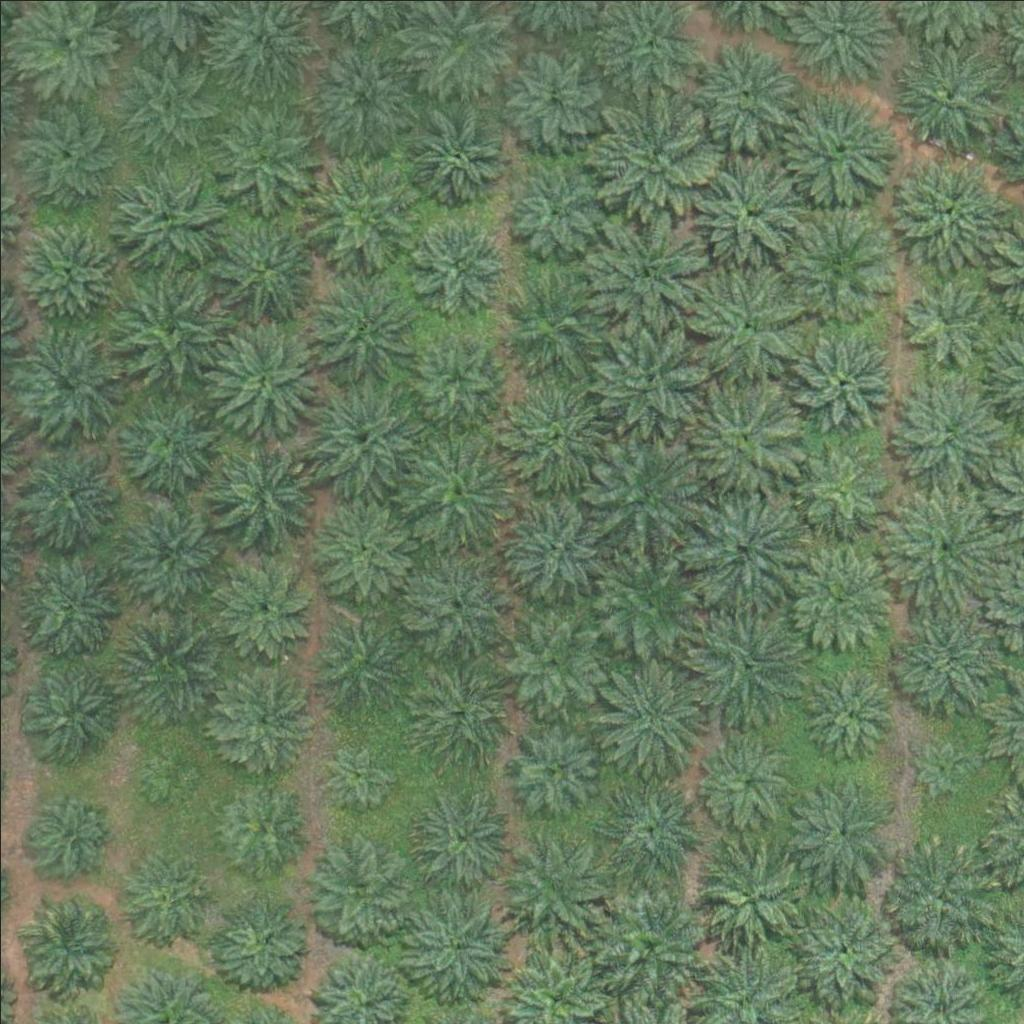Kelapa_Sawit: (595, 549, 708, 663), (689, 613, 802, 727), (783, 769, 896, 883), (588, 439, 701, 553), (303, 273, 416, 387), (205, 97, 318, 211), (112, 42, 225, 156), (13, 653, 126, 766), (397, 885, 510, 998), (694, 841, 807, 954), (689, 492, 802, 605), (785, 889, 898, 1002), (889, 154, 1002, 267), (779, 95, 892, 208), (688, 379, 801, 492), (593, 320, 706, 433), (591, 214, 704, 327), (597, 99, 710, 212), (399, 441, 512, 554), (302, 381, 415, 494), (208, 320, 321, 433), (206, 211, 319, 324), (892, 38, 1005, 151), (501, 488, 613, 602), (884, 834, 996, 948), (493, 380, 605, 494), (303, 148, 415, 262), (13, 545, 125, 658), (112, 616, 224, 729), (114, 494, 226, 607), (402, 544, 514, 657), (495, 828, 607, 941), (592, 888, 704, 1001), (596, 776, 708, 889), (594, 664, 706, 777), (783, 537, 895, 650), (889, 603, 1001, 716), (887, 490, 999, 603), (893, 372, 1005, 485), (781, 209, 893, 322), (687, 267, 799, 380), (689, 161, 801, 274), (496, 266, 608, 379), (307, 40, 419, 153), (206, 440, 318, 553), (116, 387, 228, 500), (117, 271, 229, 384), (109, 157, 221, 270), (14, 324, 126, 437), (10, 100, 122, 213), (685, 37, 797, 150), (110, 846, 210, 947), (212, 897, 312, 998), (208, 778, 308, 879), (216, 670, 316, 771), (216, 559, 316, 660), (311, 840, 411, 941), (309, 614, 409, 715), (311, 498, 411, 599), (411, 791, 511, 892), (414, 658, 514, 759), (501, 714, 601, 815), (501, 611, 601, 712), (894, 266, 994, 367), (790, 444, 890, 545), (794, 333, 894, 434), (504, 161, 604, 262), (502, 42, 602, 143), (402, 100, 502, 201), (20, 444, 120, 545), (17, 221, 117, 322), (20, 892, 120, 992), (697, 733, 797, 833), (799, 664, 899, 764), (407, 214, 507, 314), (413, 329, 501, 417), (27, 788, 114, 876), (323, 734, 398, 809), (139, 742, 201, 805), (910, 737, 972, 800)
